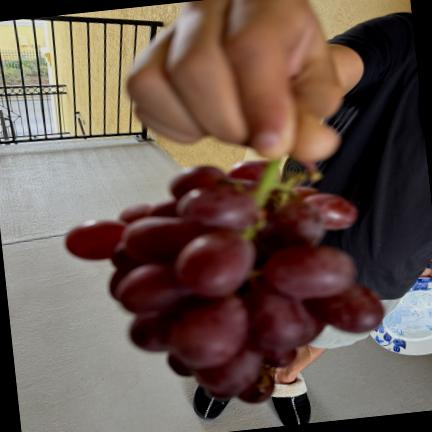grape_cluster: (66, 161, 383, 402)
